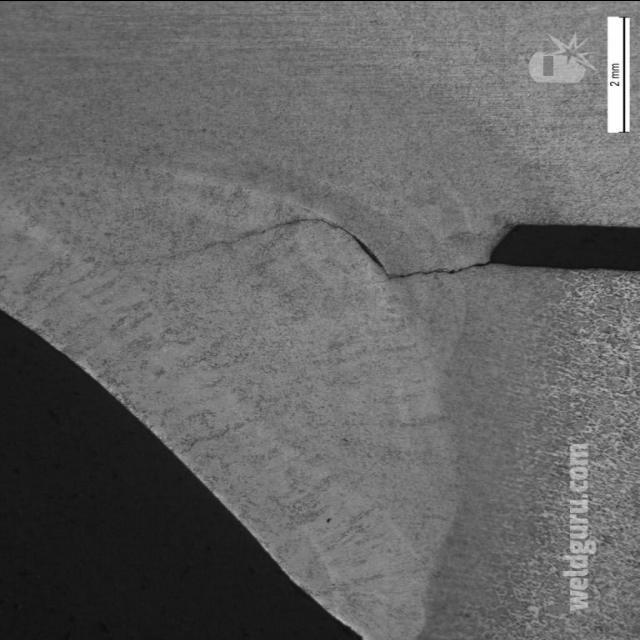defect: (168, 215, 495, 282)
